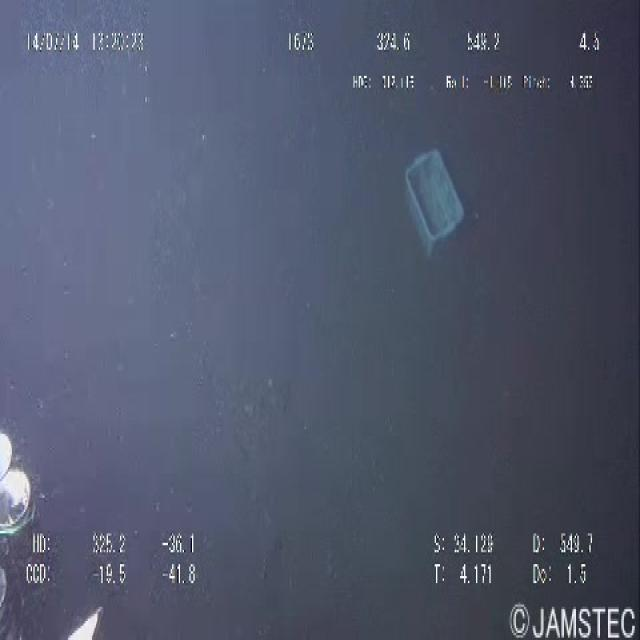plastic: (389, 119, 475, 272)
